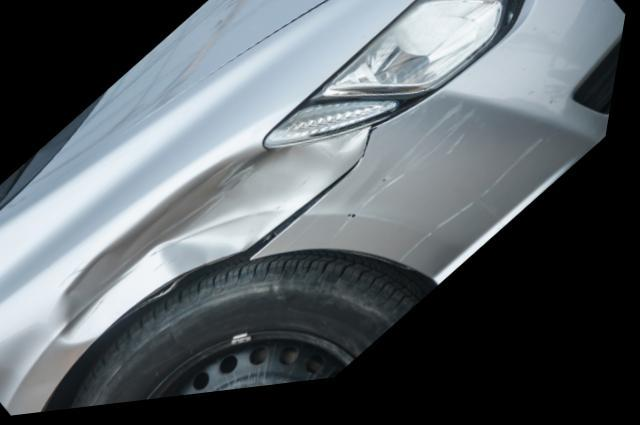dent: (59, 137, 375, 351)
scratch: (341, 111, 494, 248), (408, 152, 556, 274)
